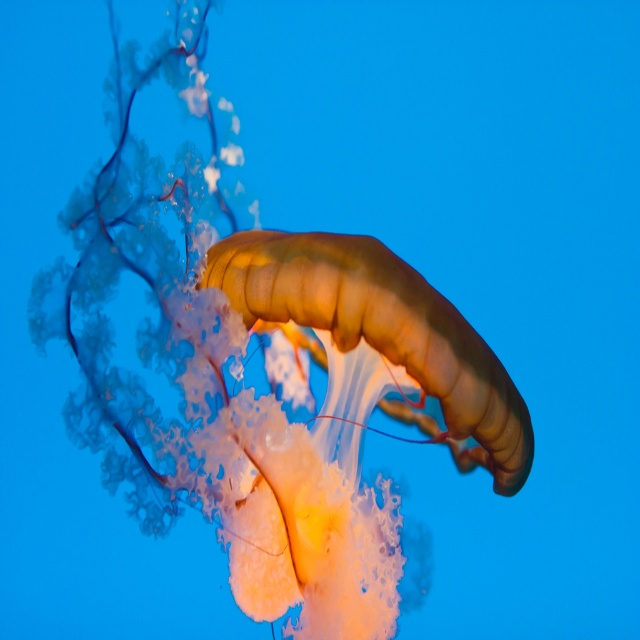Jellyfish: (24, 0, 534, 639)
